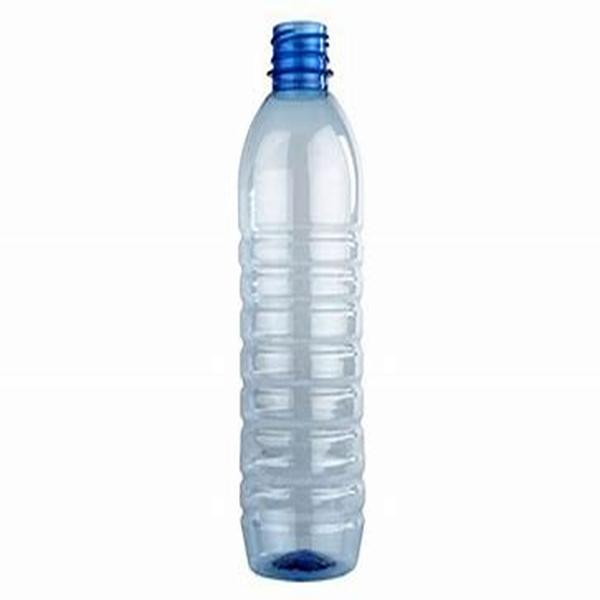tutuma: (230, 11, 376, 584)
